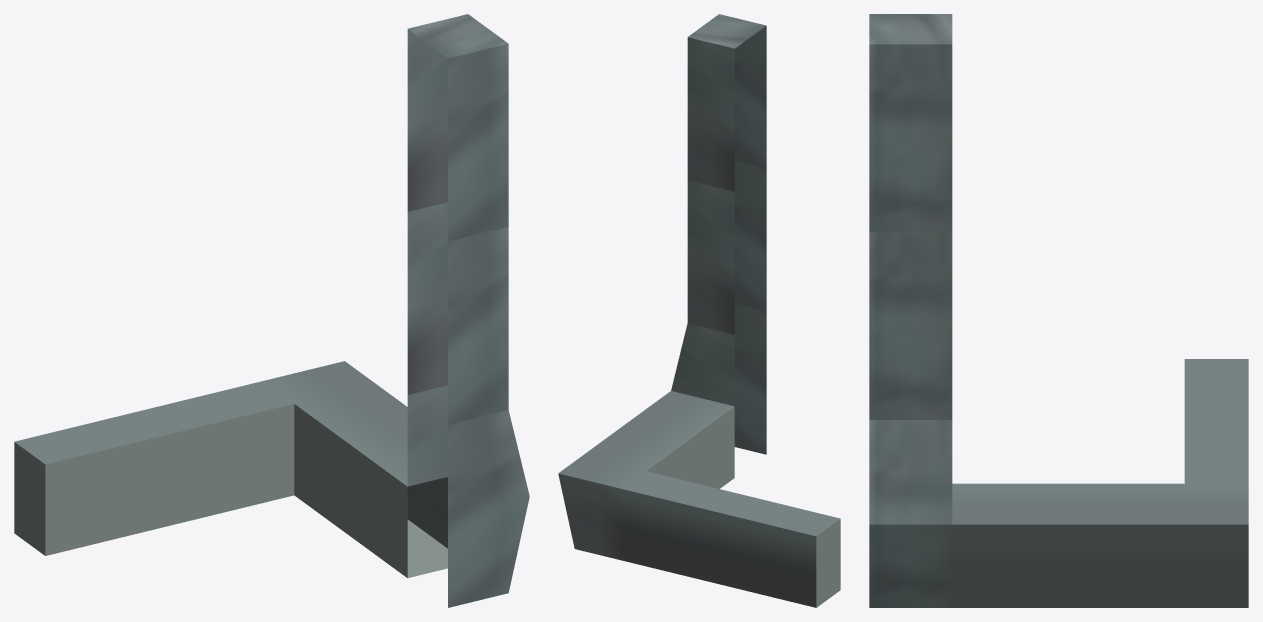
3 renders of one model, left to right at view 1: azimuth 30°, elevation 25°; view 2: azimuth 150°, elevation 25°; view 3: azimuth 270°, elevation 25°, orthographic. The views are drawn at different scales.
Visible parts, largest first — view 1: hospitaltechopiezita.026; view 2: hospitaltechopiezita.026; view 3: hospitaltechopiezita.026.
Boxes of the visible parts, left/top/right/bottom form: hospitaltechopiezita.026: left=14, top=14, right=529, bottom=607; hospitaltechopiezita.026: left=558, top=14, right=840, bottom=607; hospitaltechopiezita.026: left=869, top=14, right=1248, bottom=607.
Bounding box in the file's own units: 0.6827 × 1.08 × 0.6618.
1 material, 1 textured.
